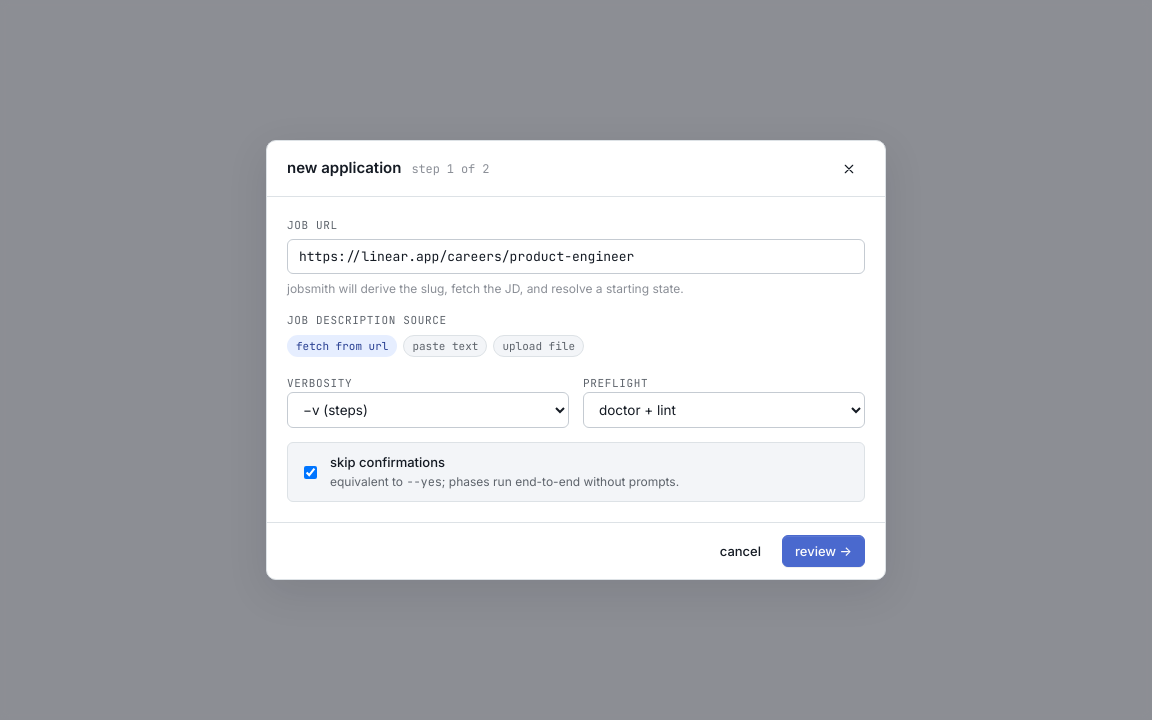
Scenario: NewApplicationModal › step 2 preflight panel shows error message when /api/doctor fails
Click the button "review →" at (824, 551), box [782,535,865,567]
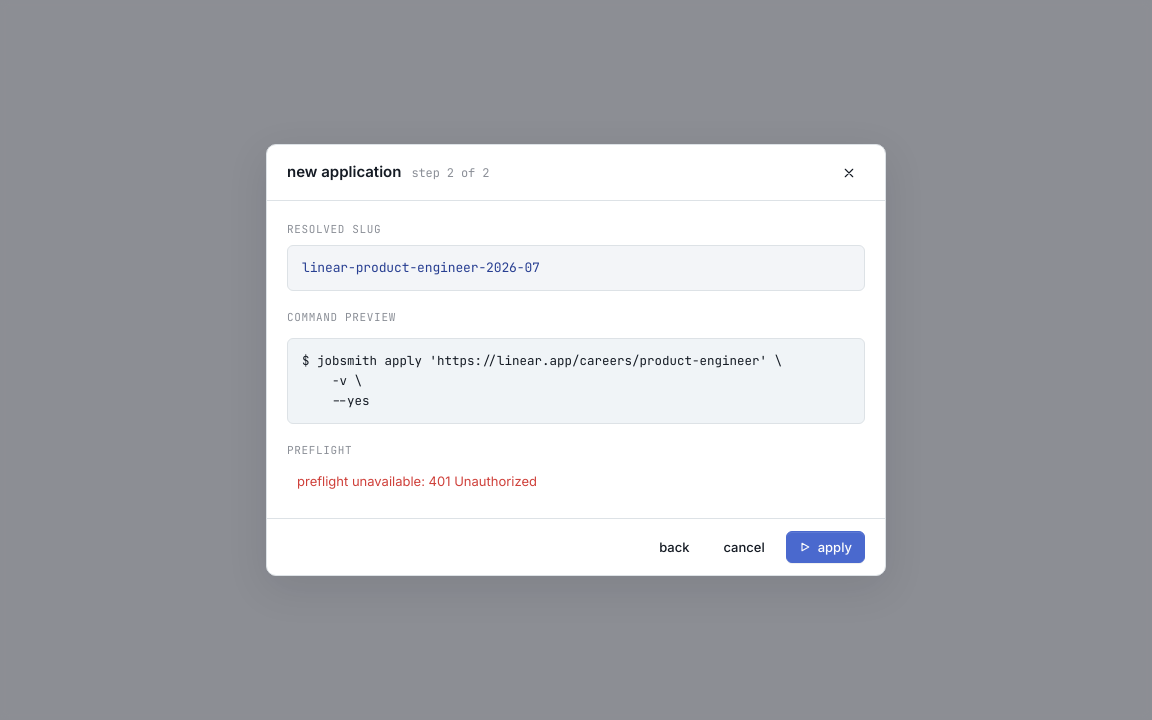
Now the text "preflight unavailable: 401 Unauthorized" is shown, box [297,473,537,489]
